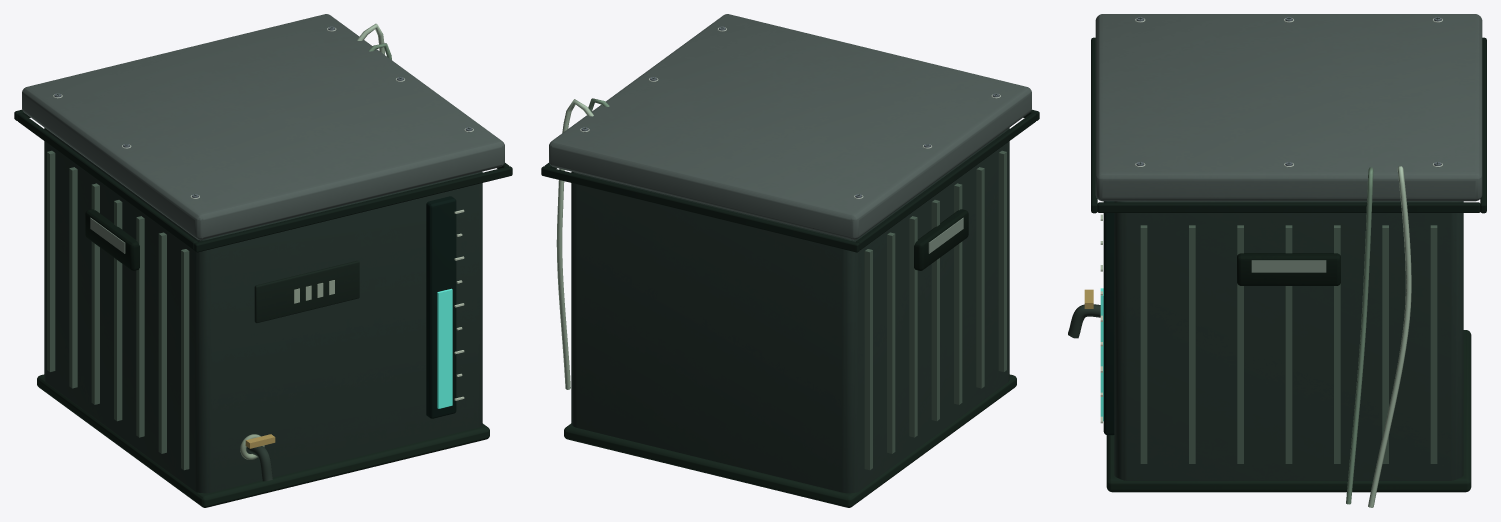
The model's file is reservoir.glb.
3 views of the same model, side by side, from view 1: azimuth 30°, elevation 25°; view 2: azimuth 150°, elevation 25°; view 3: azimuth 270°, elevation 25° (orthographic). The views are drawn at different scales.
Visible parts, largest first — view 1: geo_4740_b409a579, geo_4740_8384fff5, geo_24_2b9d3bb5 (×7), geo_4740_40533325, geo_4740_3e1cb9c1, geo_4740_efd9f605, geo_4740_becdb23d, geo_4740_b9d6f69d, geo_24_e29265b5, geo_4740_398515b5; view 2: geo_4740_b409a579, geo_4740_8384fff5, geo_24_2b9d3bb5 (×7), geo_4740_40533325, geo_4740_becdb23d, geo_4740_b9d6f69d, geo_203_f63062b8, geo_4740_398515b5; view 3: geo_4740_b409a579, geo_4740_8384fff5, geo_24_2b9d3bb5 (×7), geo_4740_40533325, geo_4740_b9d6f69d, geo_4740_3e1cb9c1, geo_4740_398515b5, geo_203_f63062b8, geo_203_94e334ff, geo_4740_becdb23d (×2), geo_24_77a58625, geo_203_6910734e.
Boxes of the visible parts, x1=… form: geo_4740_b409a579: x1=44, y1=127, x2=482, y2=493; geo_4740_8384fff5: x1=22, y1=14, x2=504, y2=240; geo_24_2b9d3bb5 (×7): x1=47, y1=150, x2=189, y2=470; geo_4740_40533325: x1=37, y1=374, x2=489, y2=507; geo_4740_3e1cb9c1: x1=426, y1=196, x2=456, y2=418; geo_4740_efd9f605: x1=254, y1=260, x2=359, y2=323; geo_4740_becdb23d: x1=194, y1=166, x2=512, y2=252; geo_4740_b9d6f69d: x1=17, y1=112, x2=197, y2=249; geo_24_e29265b5: x1=437, y1=288, x2=452, y2=408; geo_4740_398515b5: x1=85, y1=209, x2=139, y2=270; geo_4740_b409a579: x1=571, y1=127, x2=1009, y2=493; geo_4740_8384fff5: x1=549, y1=14, x2=1031, y2=240; geo_24_2b9d3bb5 (×7): x1=864, y1=150, x2=1006, y2=470; geo_4740_40533325: x1=564, y1=374, x2=1016, y2=507; geo_4740_becdb23d: x1=541, y1=166, x2=859, y2=252; geo_4740_b9d6f69d: x1=856, y1=112, x2=1036, y2=249; geo_203_f63062b8: x1=556, y1=99, x2=593, y2=389; geo_4740_398515b5: x1=914, y1=209, x2=968, y2=270; geo_4740_b409a579: x1=1114, y1=201, x2=1463, y2=480; geo_4740_8384fff5: x1=1095, y1=14, x2=1482, y2=201; geo_24_2b9d3bb5 (×7): x1=1140, y1=225, x2=1437, y2=463; geo_4740_40533325: x1=1106, y1=330, x2=1471, y2=492; geo_4740_b9d6f69d: x1=1097, y1=202, x2=1480, y2=212; geo_4740_3e1cb9c1: x1=1103, y1=201, x2=1114, y2=435; geo_4740_398515b5: x1=1237, y1=253, x2=1340, y2=285; geo_203_f63062b8: x1=1368, y1=166, x2=1411, y2=507; geo_203_94e334ff: x1=1346, y1=167, x2=1373, y2=504; geo_4740_becdb23d (×2): x1=1091, y1=37, x2=1486, y2=213; geo_24_77a58625: x1=1251, y1=260, x2=1326, y2=272; geo_203_6910734e: x1=1068, y1=304, x2=1100, y2=338.
Size of the model in its own units: 1.16 by 1 by 1.13.
Materials: 40 (17 with a texture image).
